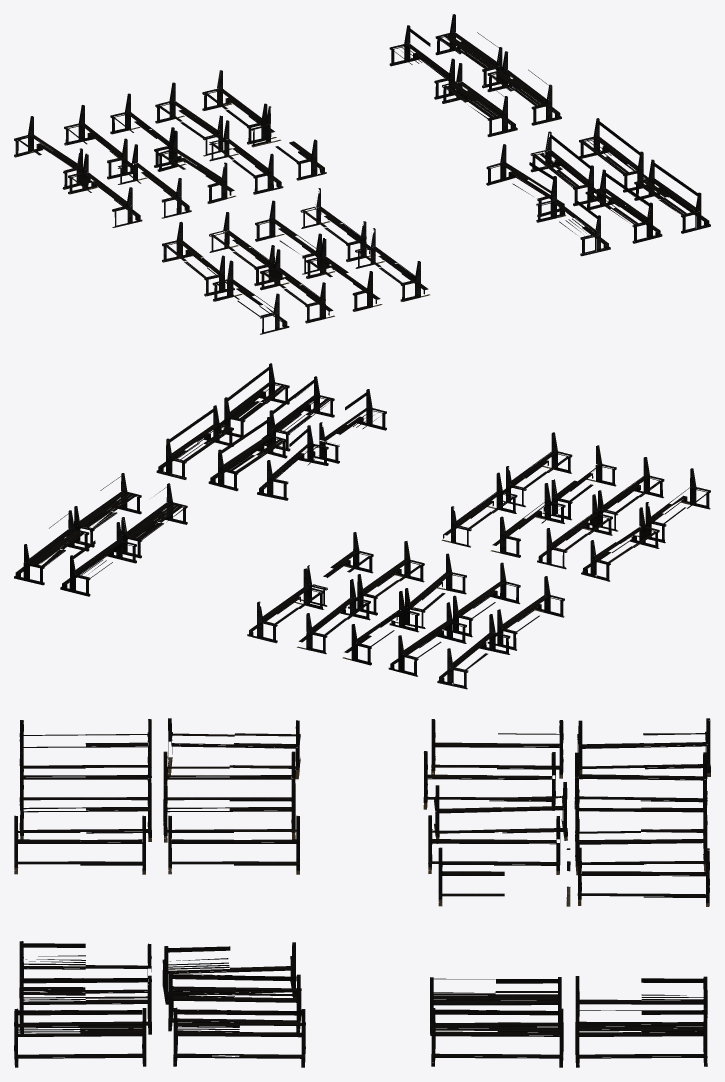
File: Seats_one.obj
3 views of the same model, one above another, from view 1: azimuth 30°, elevation 25°; view 2: azimuth 150°, elevation 25°; view 3: azimuth 270°, elevation 25° (orthographic). The views are drawn at different scales.
Parts seen in each view (by area): view 1: Plane.001_0.008; view 2: Plane.001_0.008; view 3: Plane.001_0.008.
Part boxes in pixels (bbox=[...]): Plane.001_0.008: bbox=[14, 14, 710, 334]; Plane.001_0.008: bbox=[14, 363, 710, 689]; Plane.001_0.008: bbox=[14, 718, 710, 1067].
Bounding box in the file's own units: 9.78 × 0.7492 × 9.28.
